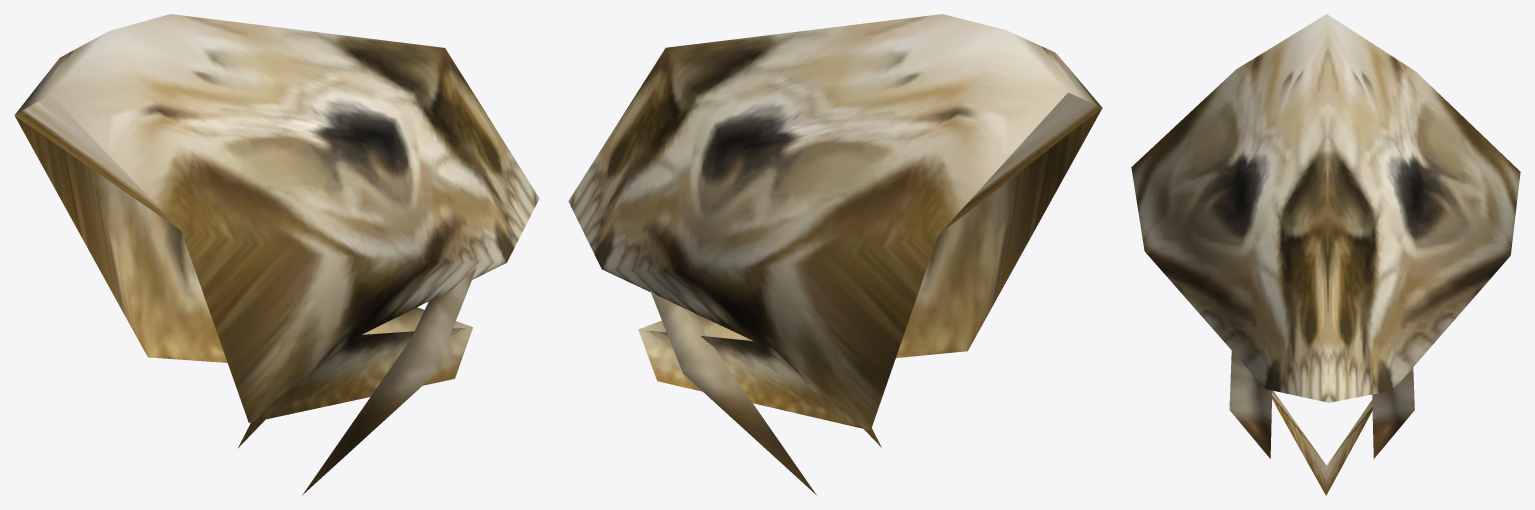
File: tigerskull.glb
The picture shows the model from 3 angles, left to right: view 1: azimuth 30°, elevation 25°; view 2: azimuth 150°, elevation 25°; view 3: azimuth 270°, elevation 25°; orthographic projection. The views are drawn at different scales.
Size of the model in its own units: 0.6416 by 0.5972 by 0.5477.
1 material, 1 textured.
